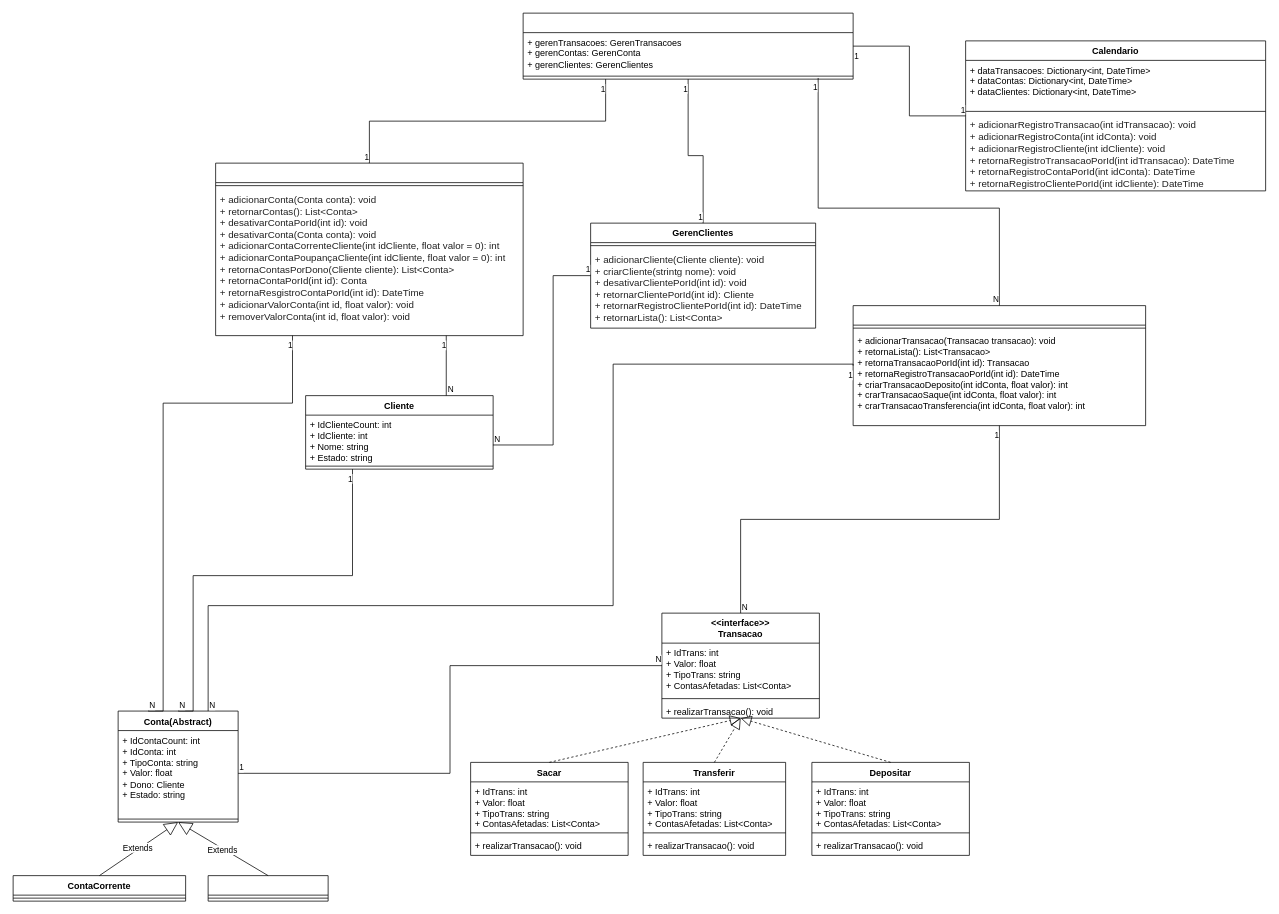
Some shapes in this 1279 by 914 pixel diagram are drawn without their labels. Each missing label, with the box of its shape:
Banco: (522, 12, 853, 79)
GerenContas: (215, 162, 523, 336)
GerenTransacoes: (852, 305, 1146, 426)
Poupanca: (207, 875, 328, 901)
